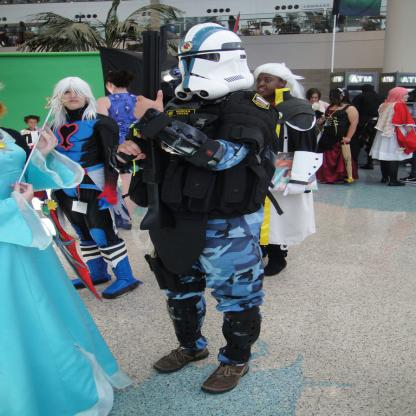Helmet: (167, 27, 255, 100)
